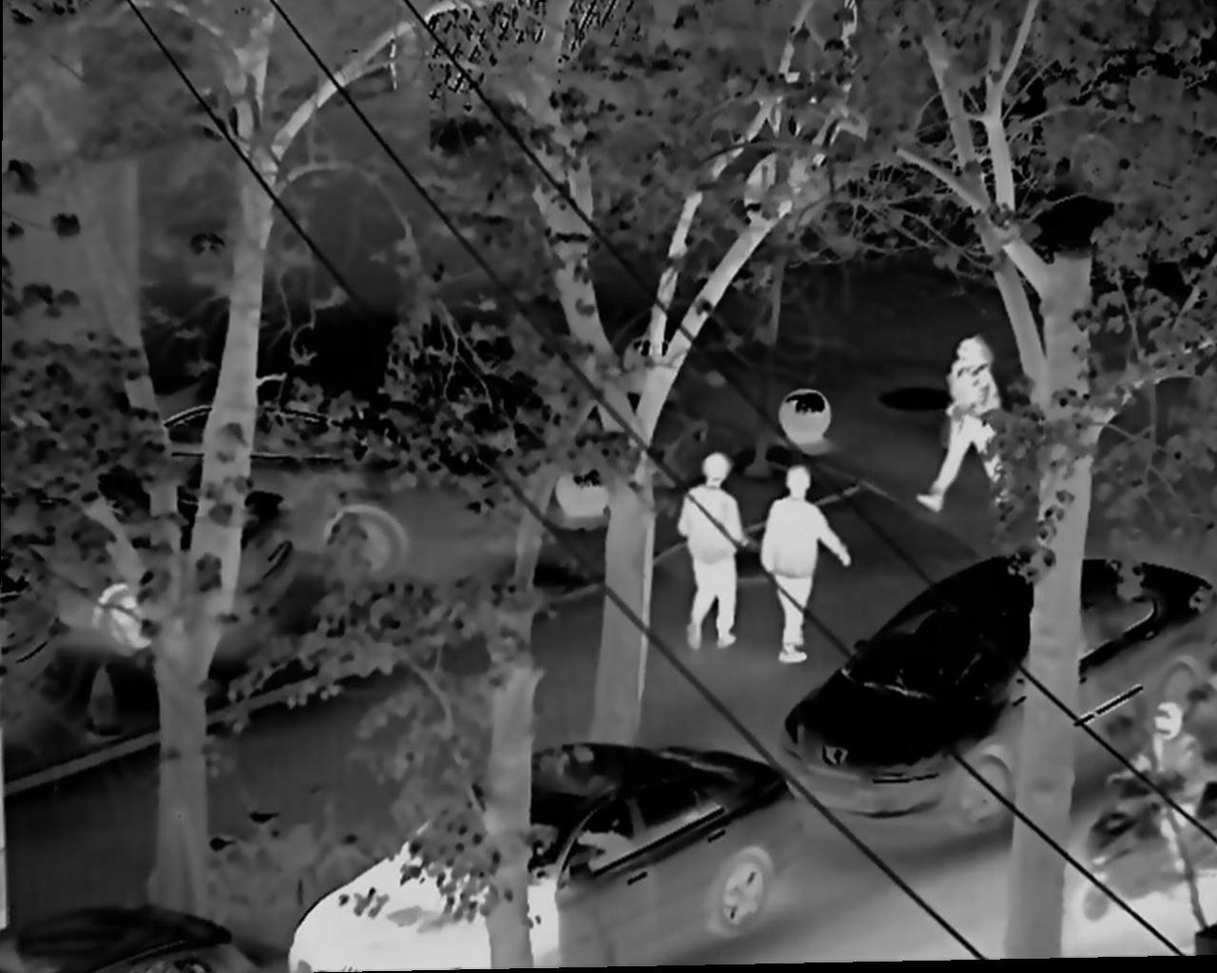person: (760, 461, 850, 673), (926, 332, 1021, 521), (675, 449, 754, 652), (1115, 699, 1201, 871)
